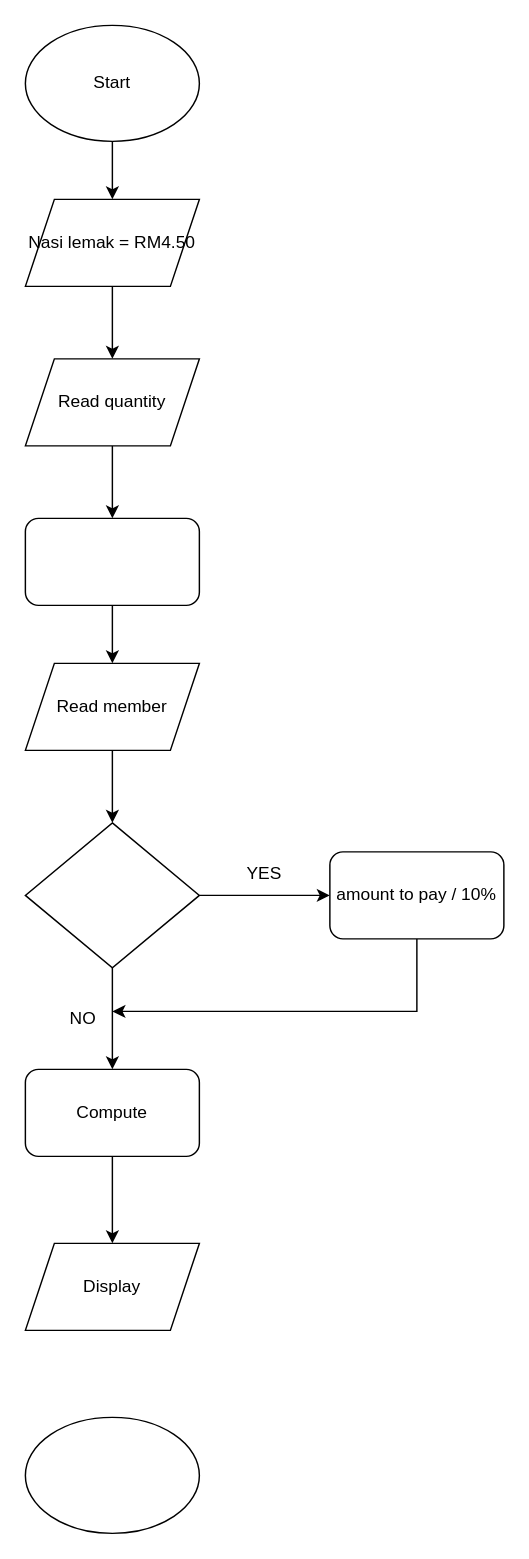
Image size: 529x1559. Some labels were removed from this diagram. The centre of each missing label's shape, as x and y in pixels:
member ?: point (111, 894)
RM4.50 * quantity = amount to pay: point (111, 561)
Stop: point (111, 1474)
